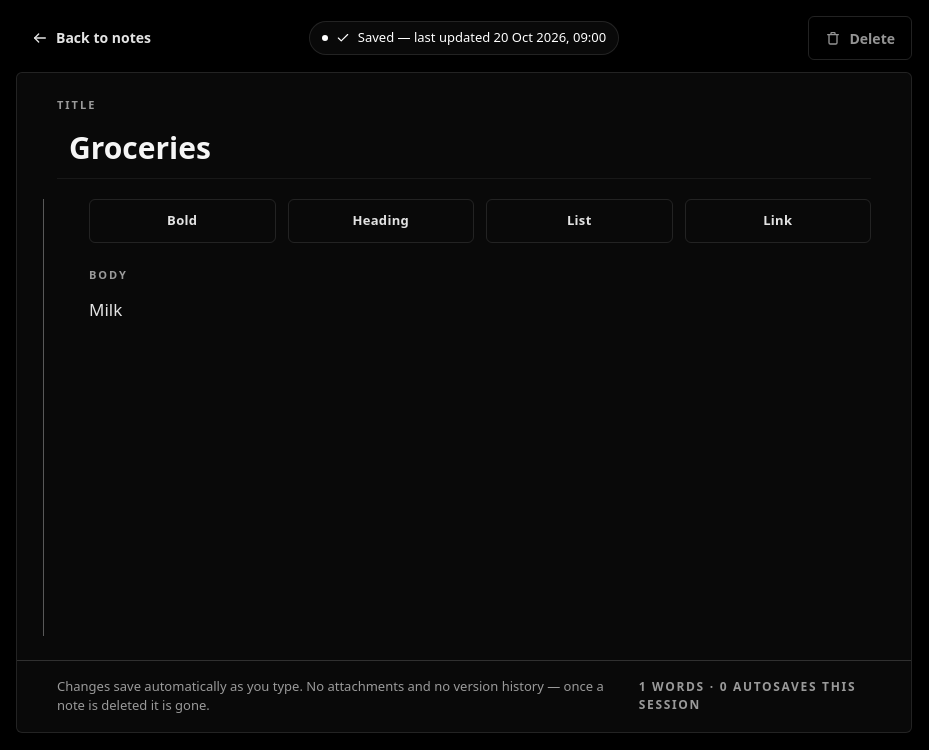
Test: Note screen › [AC-012] after an edit is saved, the displayed last-updated stamp moves to the new updated_at from the server
This screenshot has width=929, height=750.
Expected: the text "Saved — last updated 20 Oct 2026, 09:00" is shown, [309,21,619,55]
Replace the text in the field labelled "Title" with "Groceries, updated" at coordinates (464, 150), box [57,121,871,179]
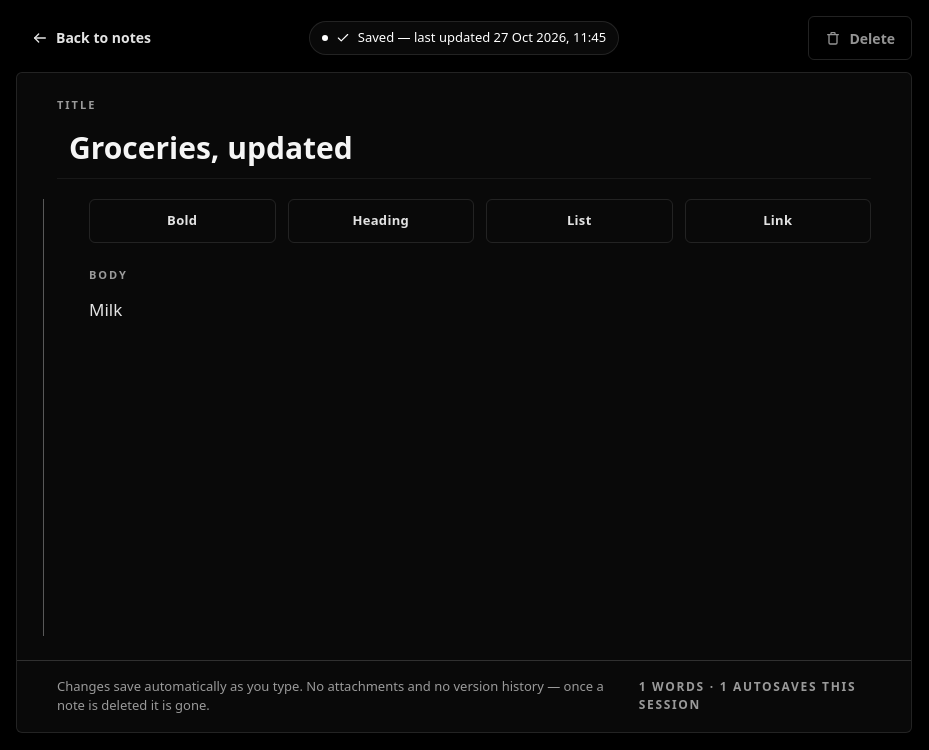
Expected: the text "Saved — last updated 27 Oct 2026, 11:45" is shown, [309,21,619,55]
Expected: the text "20 Oct 2026" is gone
